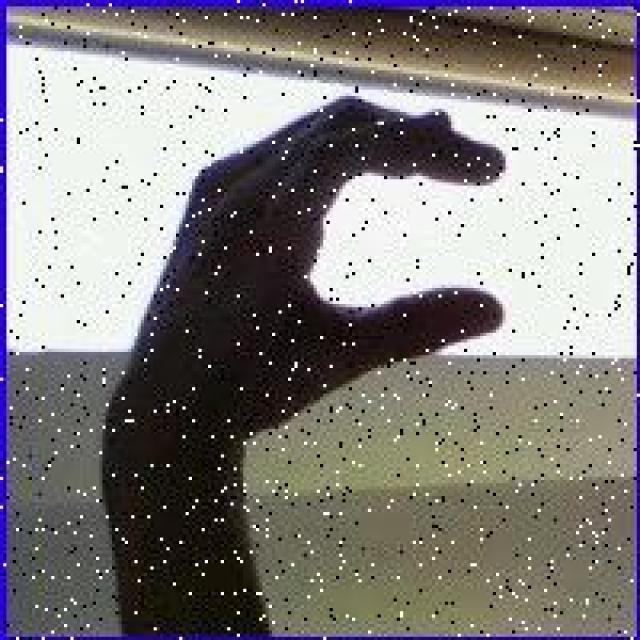C: (96, 86, 509, 502)
